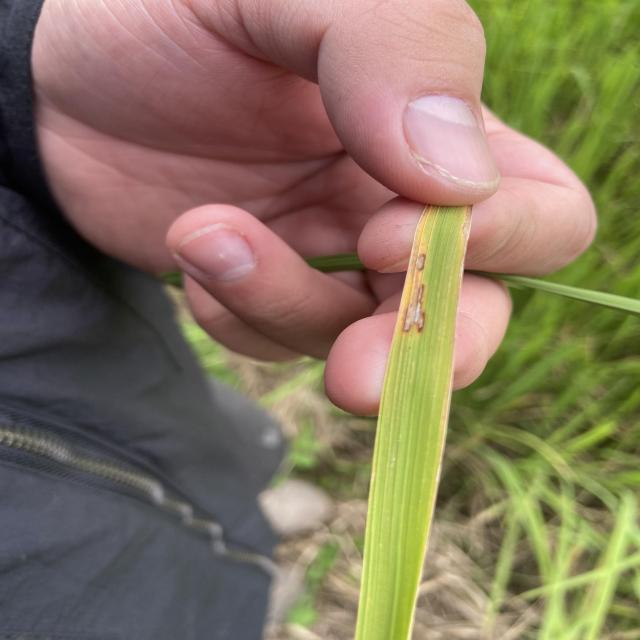Dao on: (401, 281, 428, 333), (416, 251, 428, 271)
